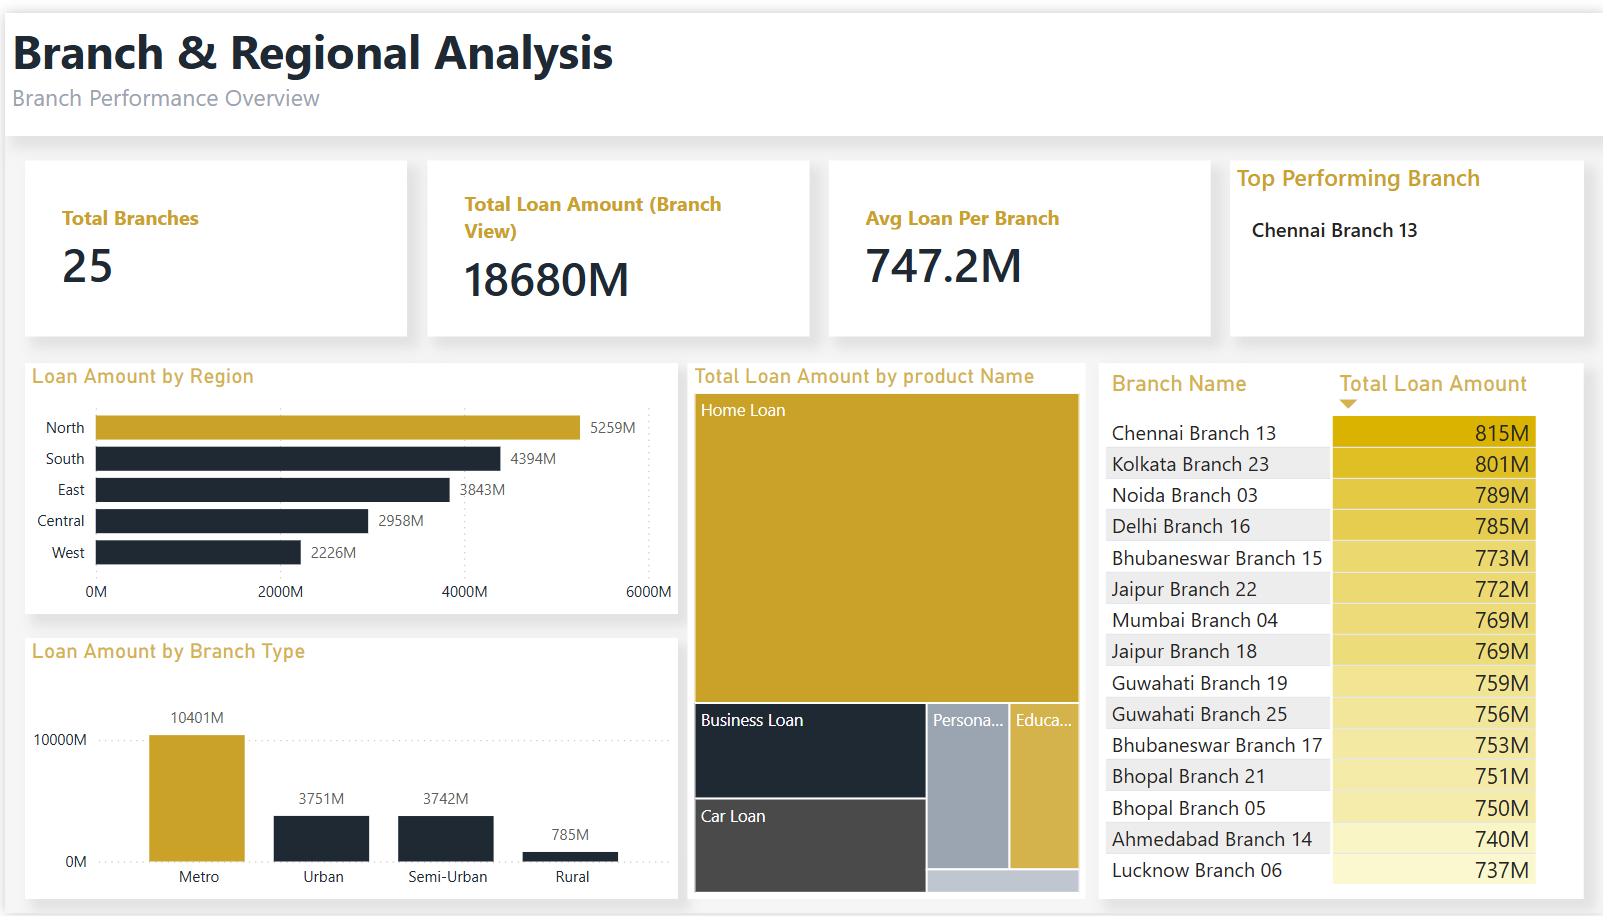

The page's visual inventory and layout, read from the dashboard file:
{"tool":"powerbi","page":{"name":"Branch Analysis","canvas":[1280,720],"ordinal":1},"visuals":[{"type":"textbox","box":[0,0,1280,98.8],"z":0},{"type":"shape","box":[1245,0,35,98.8],"z":1000},{"type":"cardVisual","fields":{"Data":["Key_Measures.Total Branches"]},"box":[16.2,117.5,305,141.2],"z":2000},{"type":"cardVisual","fields":{"Data":["Key_Measures.Total Loan Amount"]},"box":[337.5,117.5,305,141.2],"z":3000},{"type":"cardVisual","fields":{"Data":["Key_Measures.Avg Loan Per Branch"]},"box":[658.8,117.5,305,141.2],"z":4000},{"type":"cardVisual","title":"Top Performing Branch","fields":{"Rows":["bank_analytics dim_branch.branch_name"]},"box":[980,117.5,282.5,141.2],"z":5000},{"type":"clusteredBarChart","title":"Loan Amount by Region","fields":{"Y":["Key_Measures.Total Loan Amount"],"Category":["bank_analytics dim_branch.region"]},"box":[16.2,280,521.2,201.2],"z":6000},{"type":"clusteredColumnChart","title":"Loan Amount by Branch Type","fields":{"Category":["bank_analytics dim_branch.branch_type"],"Y":["Key_Measures.Total Loan Amount"]},"box":[16.2,500,521.2,208.8],"z":7000},{"type":"pivotTable","title":"Top Branches by Loan Amount","fields":{"Rows":["bank_analytics dim_branch.branch_name"],"Values":["Key_Measures.Total Loan Amount"]},"box":[875,280,387.5,428.8],"z":8000},{"type":"treemap","title":"Total Loan Amount by product Name","fields":{"Group":["bank_analytics dim_product.product_name"],"Values":["Key_Measures.Total Loan Amount"]},"box":[546.2,280,317.5,428.8],"z":9000}]}

Visuals, with their boxes in screenshot pixels (x1, y1, x2, y2), scaled from the page's 1280x720 canvas onto the 1603x916 screenshot:
textbox: box(0, 0, 1602, 126)
shape: box(1559, 0, 1602, 126)
cardVisual - Key_Measures.Total Branches: box(20, 149, 402, 329)
cardVisual - Key_Measures.Total Loan Amount: box(423, 149, 805, 329)
cardVisual - Key_Measures.Avg Loan Per Branch: box(825, 149, 1207, 329)
"Top Performing Branch" cardVisual: box(1227, 149, 1581, 329)
"Loan Amount by Region" clusteredBarChart: box(20, 356, 673, 612)
"Loan Amount by Branch Type" clusteredColumnChart: box(20, 636, 673, 902)
"Top Branches by Loan Amount" pivotTable: box(1096, 356, 1581, 902)
"Total Loan Amount by product Name" treemap: box(684, 356, 1082, 902)
